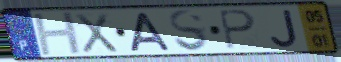A: (128, 11, 174, 53)
H: (30, 10, 85, 58)
J: (268, 8, 300, 49)
P: (216, 9, 258, 52)
S: (167, 8, 211, 54)
X: (72, 11, 121, 54)
